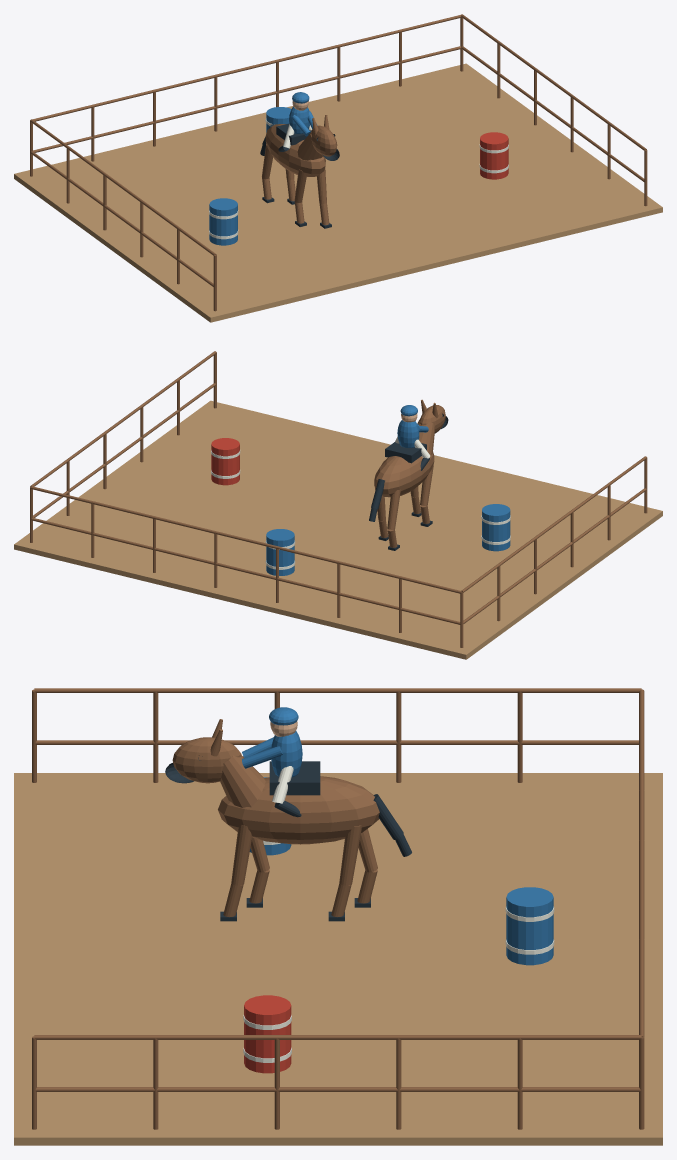
File: scendance-plan-barrel-racing.glb
3 views of the same model, one above another, from view 1: azimuth 30°, elevation 25°; view 2: azimuth 150°, elevation 25°; view 3: azimuth 270°, elevation 25° (orthographic). The views are drawn at different scales.
Bounding box in the file's own units: 9.5 × 2.56 × 7.15.
